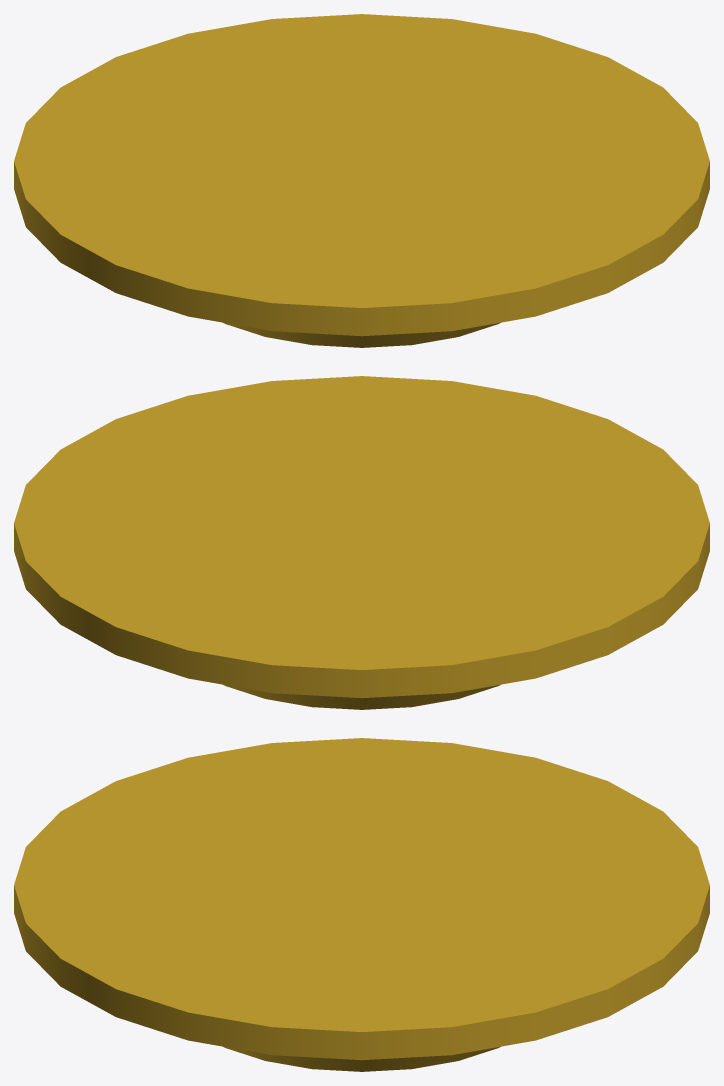
The model's file is prop_downlight.glb.
The picture shows the model from 3 angles, top to bottom: view 1: azimuth 30°, elevation 25°; view 2: azimuth 150°, elevation 25°; view 3: azimuth 270°, elevation 25°; orthographic projection.
Parts seen in each view (by area): view 1: Downlight; view 2: Downlight; view 3: Downlight.
Part boxes in pixels (box(x1,y1,x2,y2)): Downlight: box(14, 14, 709, 347); Downlight: box(14, 376, 709, 709); Downlight: box(14, 738, 709, 1071).
Size of the model in its own units: 0.18 by 0.03 by 0.18.
